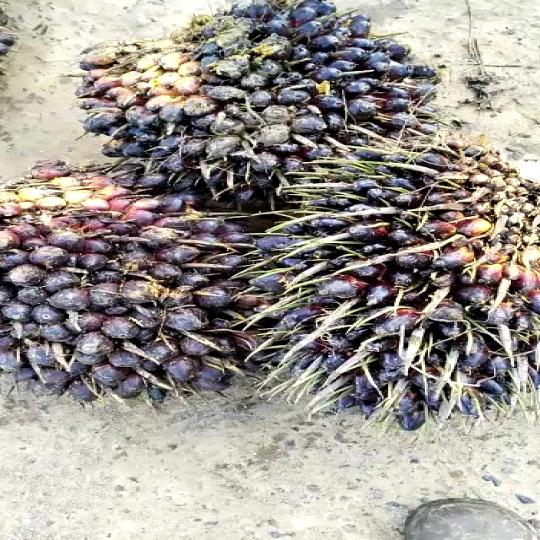mentah: (49, 0, 524, 197), (224, 125, 526, 421), (0, 164, 287, 422)
